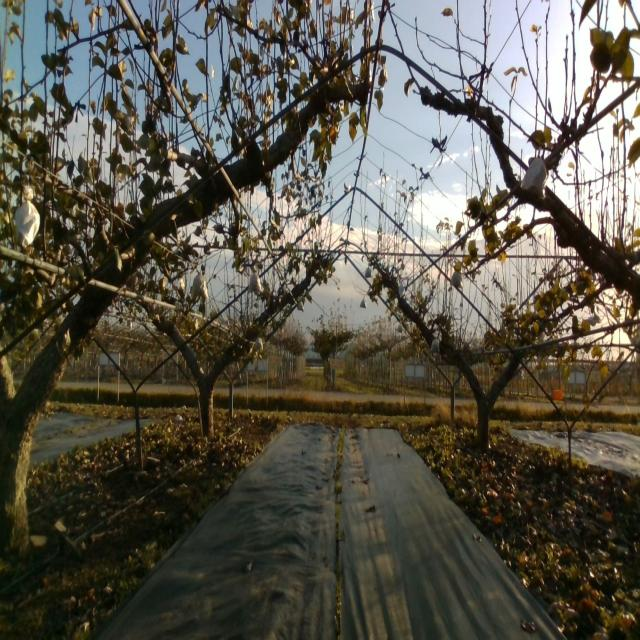pearbags: (14, 190, 42, 248), (520, 145, 548, 201), (192, 273, 206, 297), (449, 270, 464, 291), (248, 272, 262, 294)
